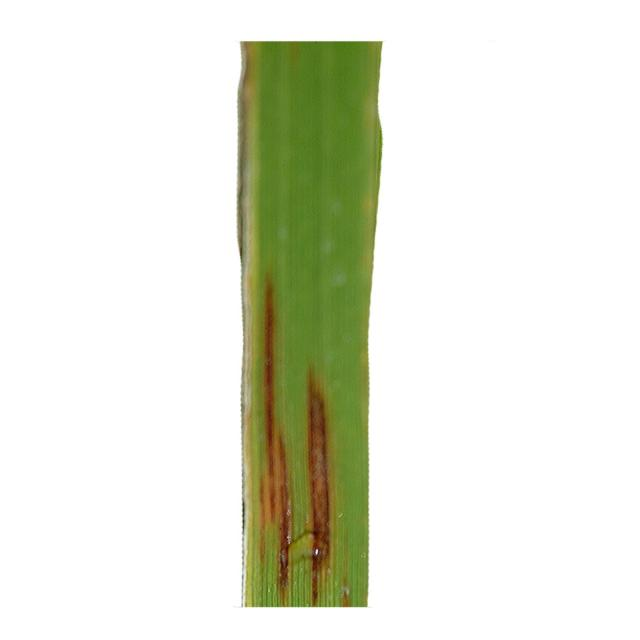Narrow brown: (190, 0, 388, 640)
